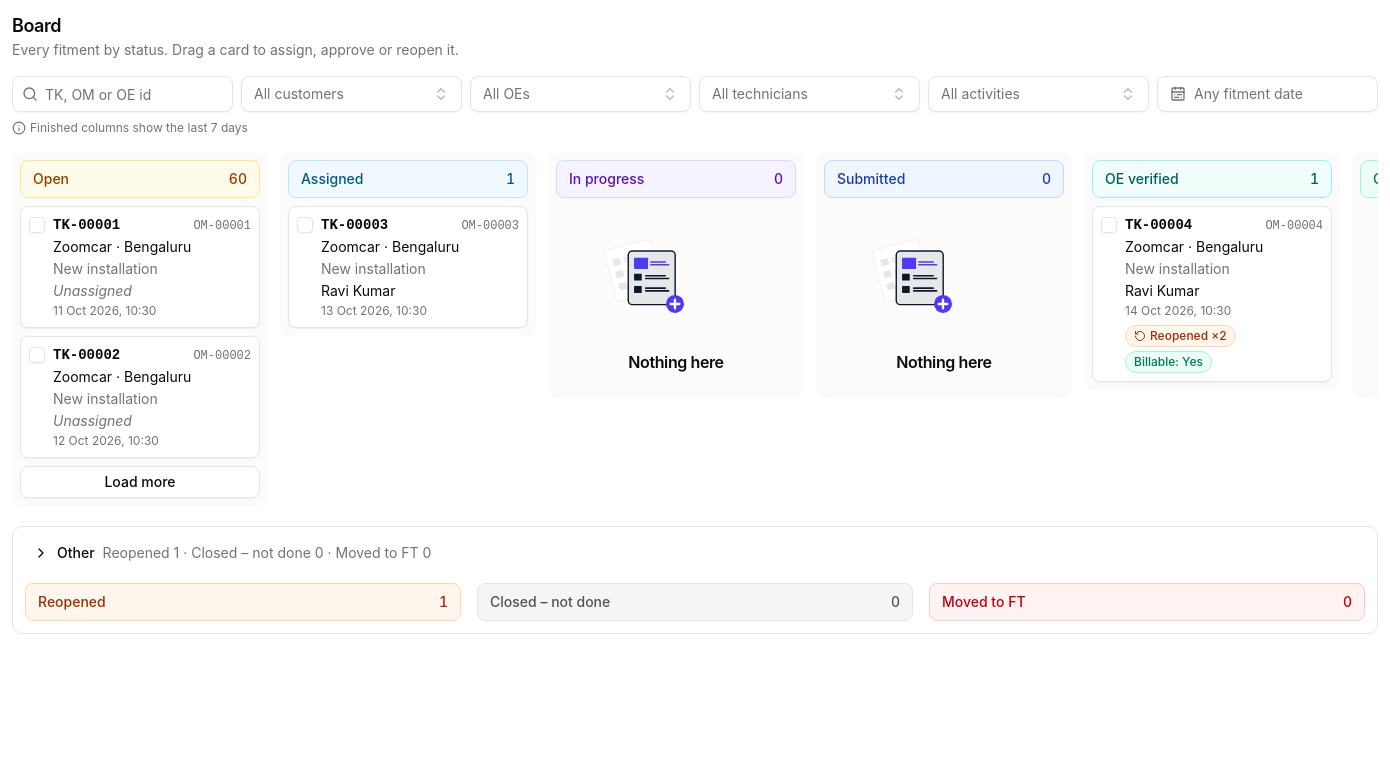
Test: board (F07), desktop › renders the 6 main columns with counts and the collapsed side lanes; "Load more" when a column has more
Expected: the text "TK-00001" is shown, [53,215,120,235]
Expected: the text "TK-00005" is not shown
Step 1. Click the button "Other Reopened 1 · Closed – not done 0 · Moved to FT 0" → (76, 552), box [21,535,1369,571]
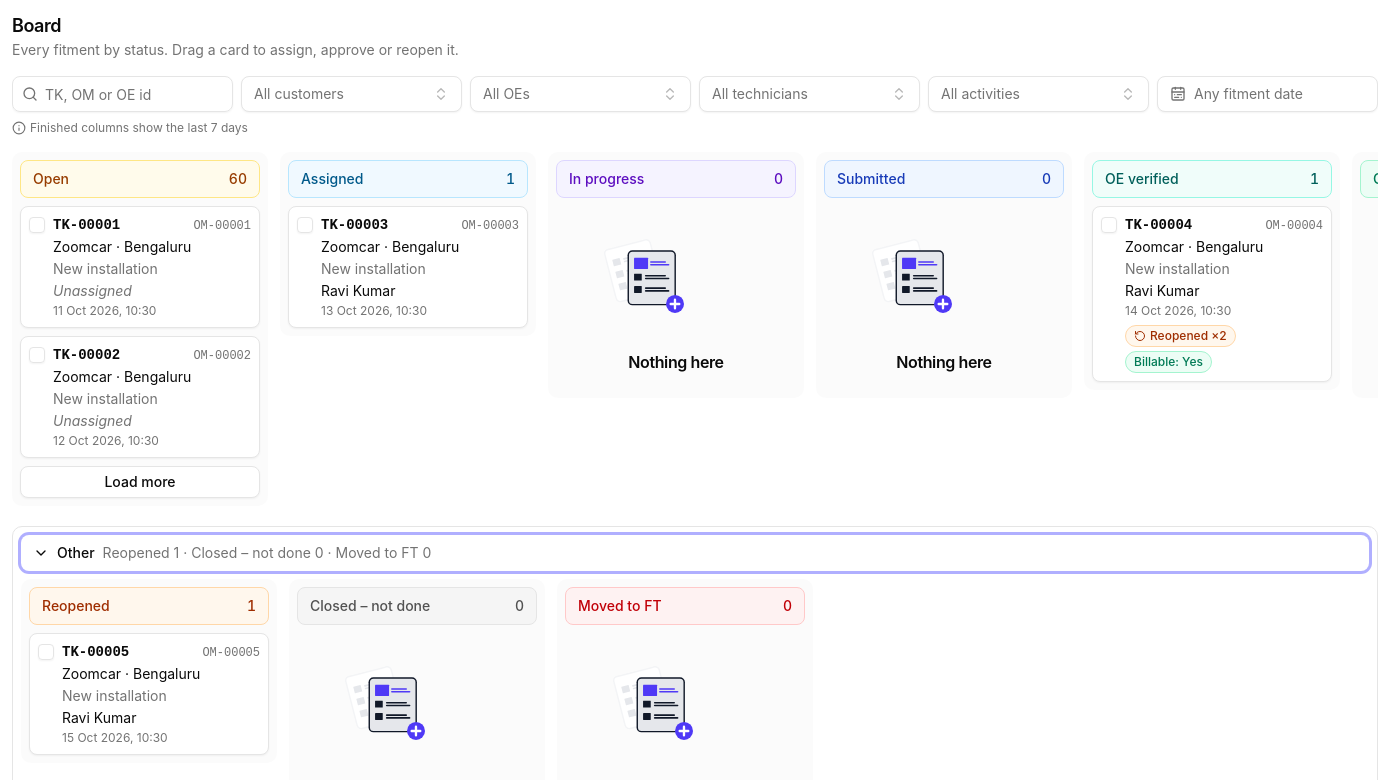
Now the text "TK-00005" is shown, box [62,642,129,662]
